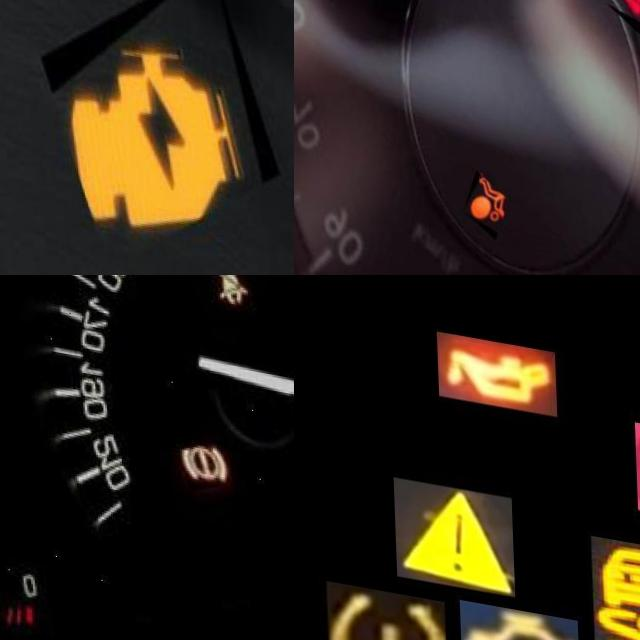Central Warning lamp: (392, 473, 513, 589)
